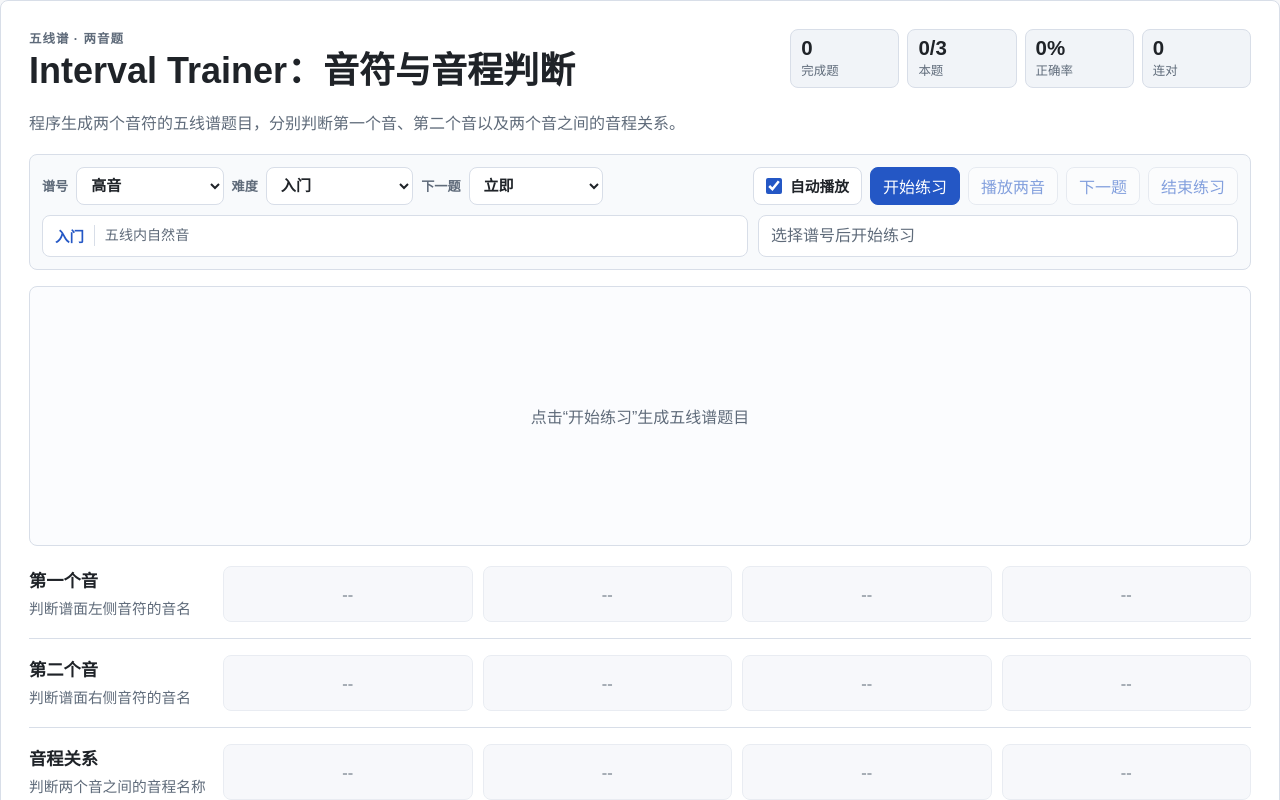
Test: IntervalTrainerPage › 结束练习时记录本次五线谱练习结果
Click the button "开始练习": (915, 186) x1=870 y1=167 x2=960 y2=205
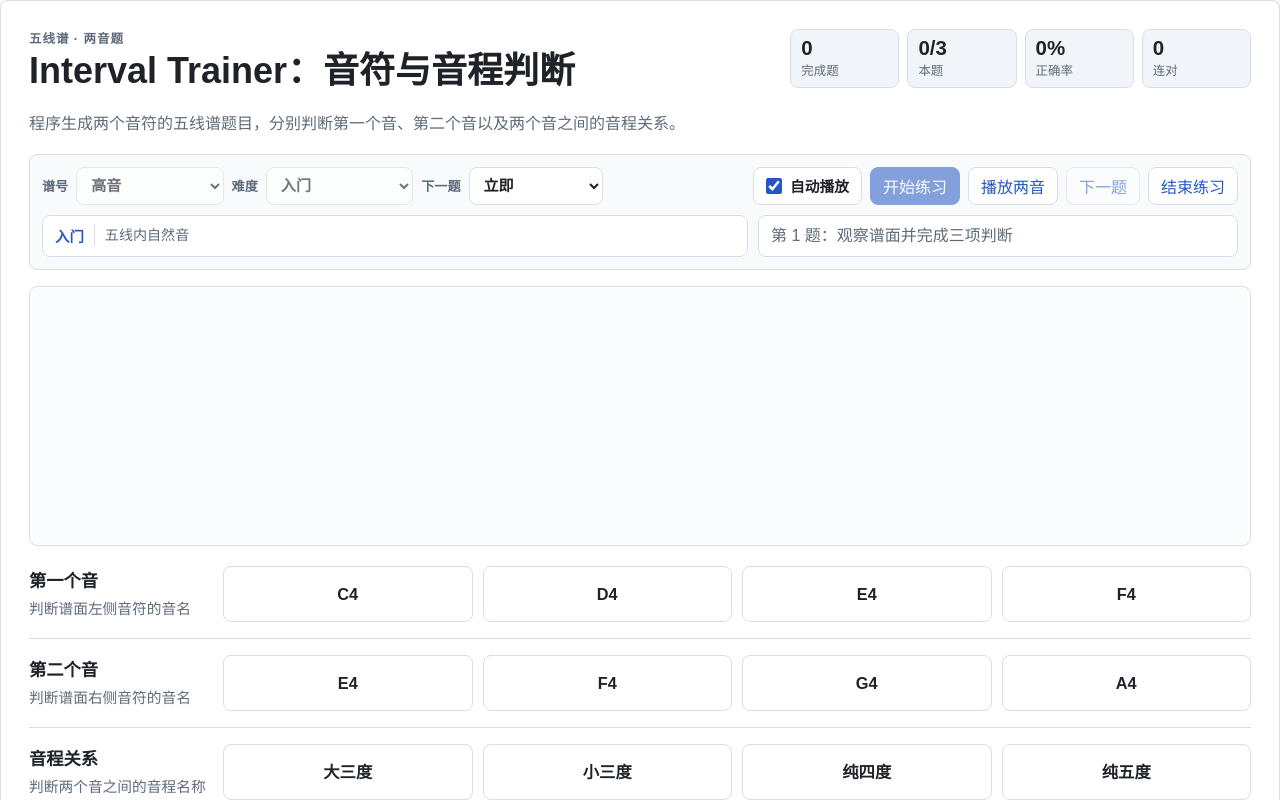
Click the button "C4": (348, 594) x1=223 y1=566 x2=472 y2=622
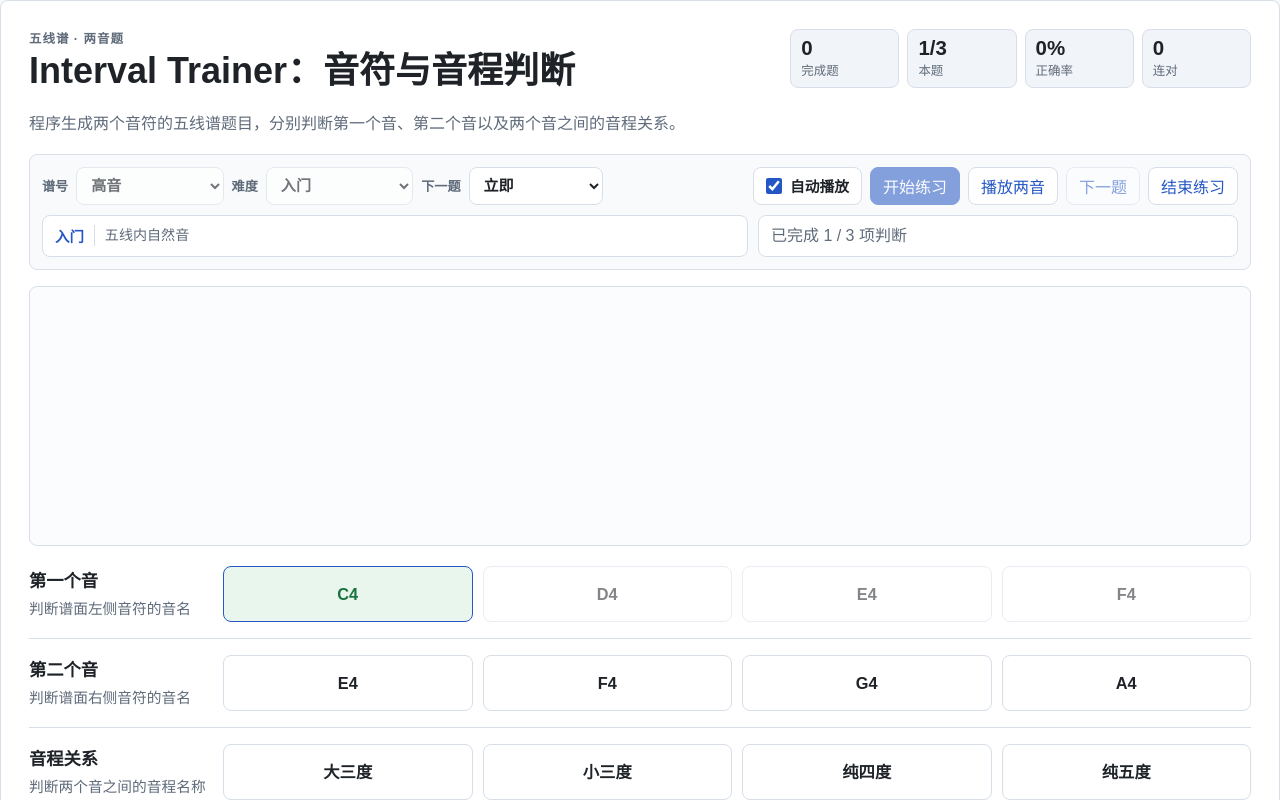
Click the button "E4" next to "判断谱面右侧音符的音名": (348, 683) x1=223 y1=655 x2=472 y2=711
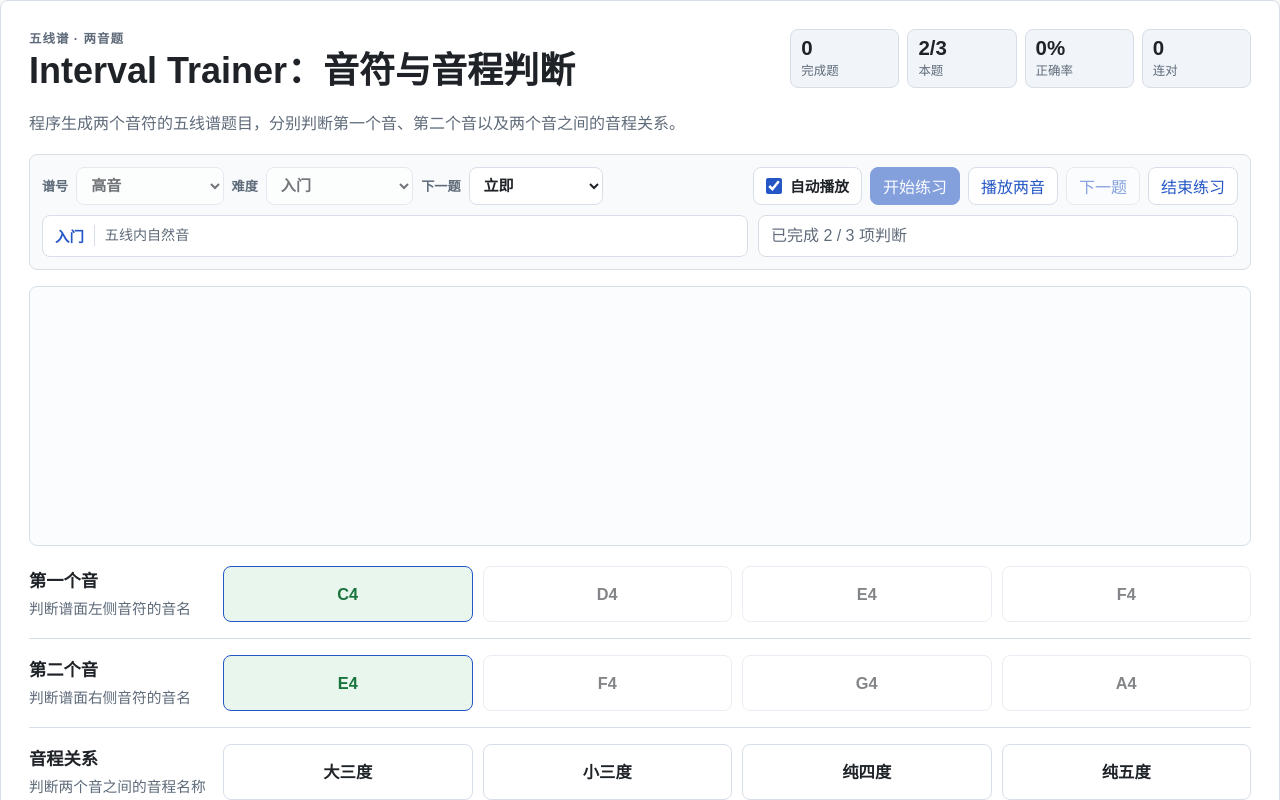
Click the button "大三度": (348, 772) x1=223 y1=744 x2=472 y2=799
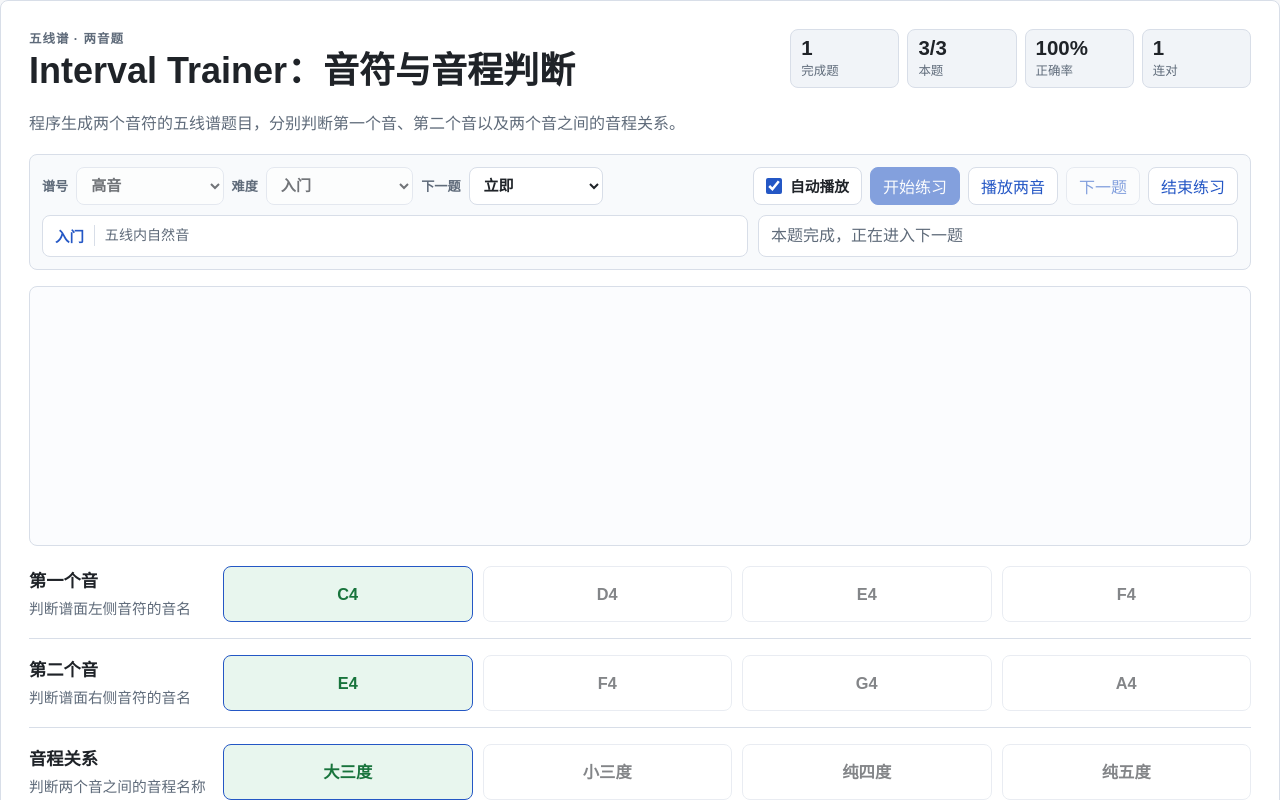
Click the button "结束练习": (1193, 186) x1=1148 y1=167 x2=1238 y2=205
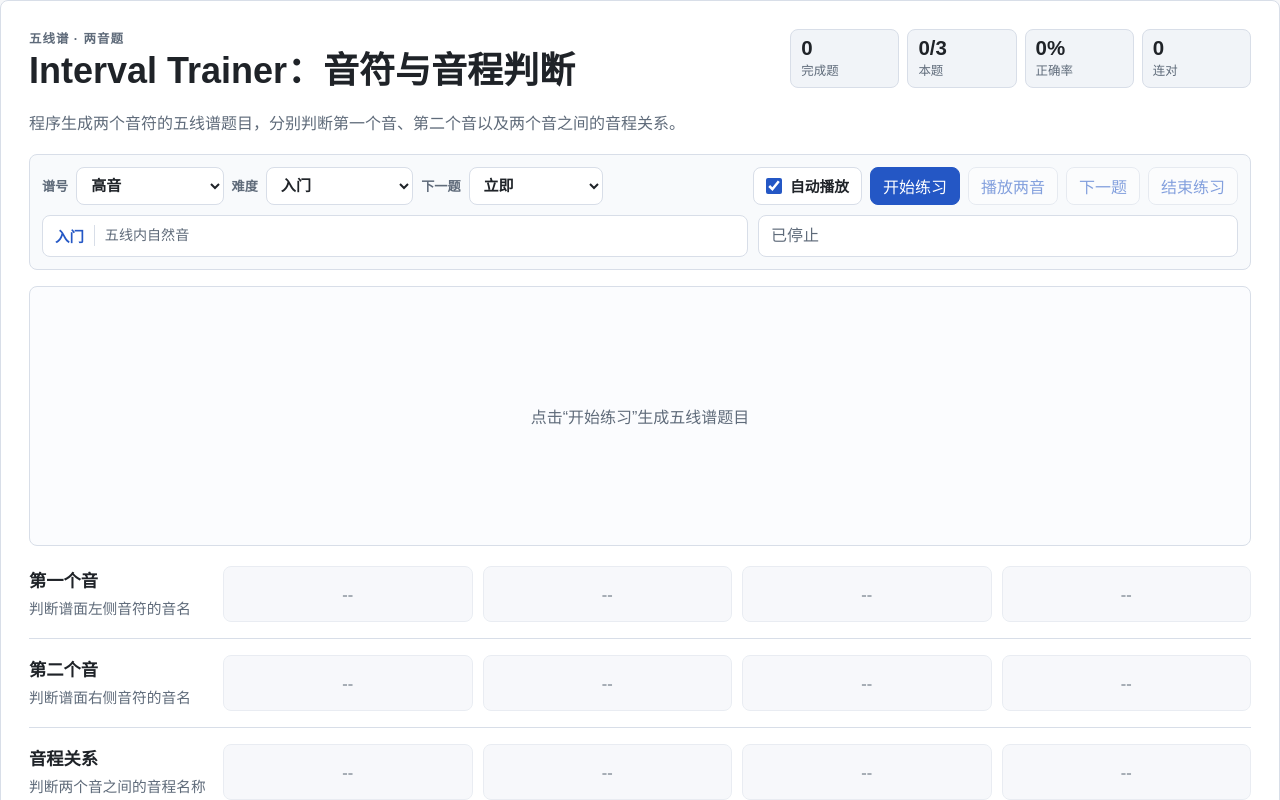
Check: the element labelled "完成题 0" is shown, box x1=790 y1=29 x2=899 y2=88
Check: the element labelled "正确率 0%" is shown, box x1=1025 y1=29 x2=1134 y2=88
Check: the element labelled "连对 0" is shown, box x1=1142 y1=29 x2=1251 y2=88
